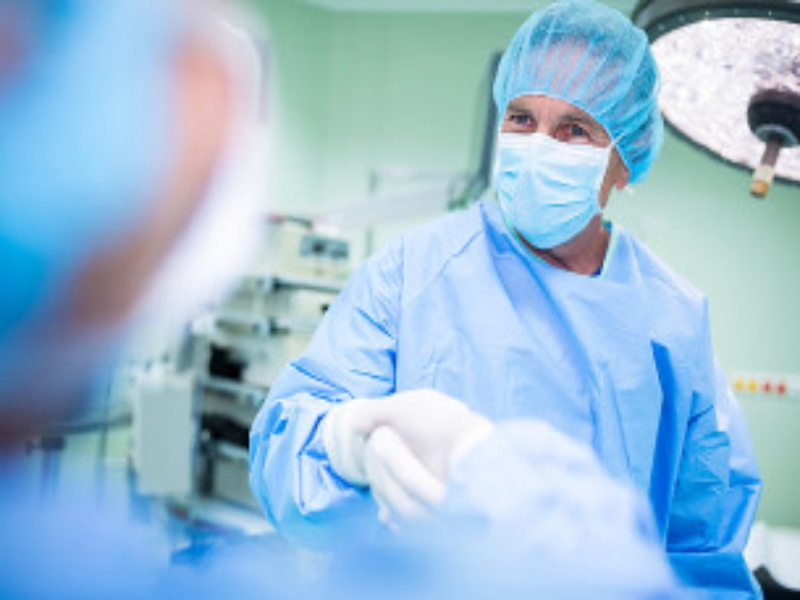mask: (487, 1, 672, 251)
